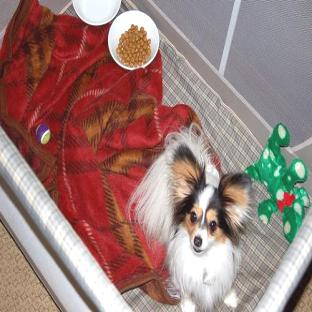Animal: (127, 124, 253, 310)
